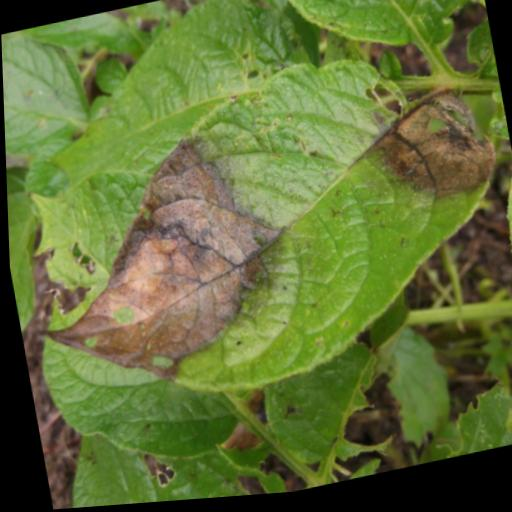Early Blight: (7, 30, 512, 436)
